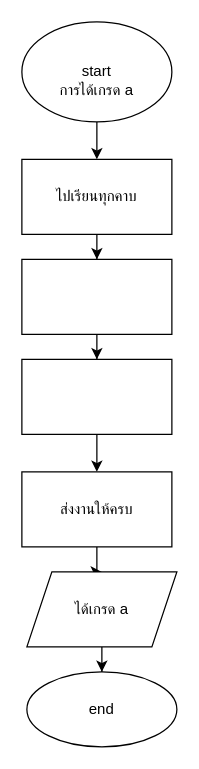
Some shapes in this 199 by 769 pixel diagram are drawn without their labels. The shapes that lost their labels are listed below. From the top down, each one's centre as x and y in pixels, then its label:
(x=96, y=296): ตั้งใจเรียน
(x=96, y=396): สอบให้ได้
